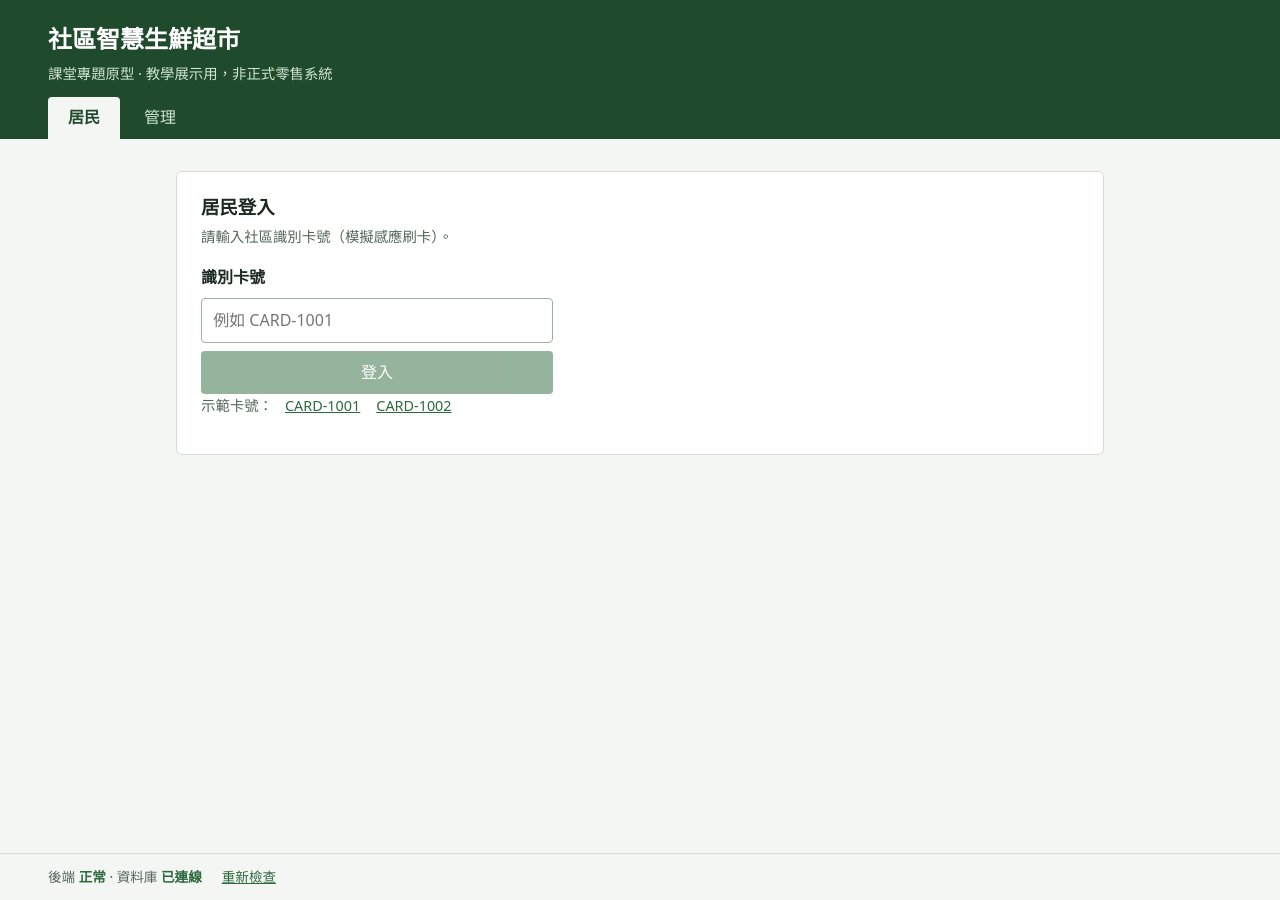
Test: shows the backend's message for an unknown card and marks the field invalid
Type "CARD-9999" into the field labelled "識別卡號". click: (377, 321)
box: x1=201 y1=298 x2=553 y2=343
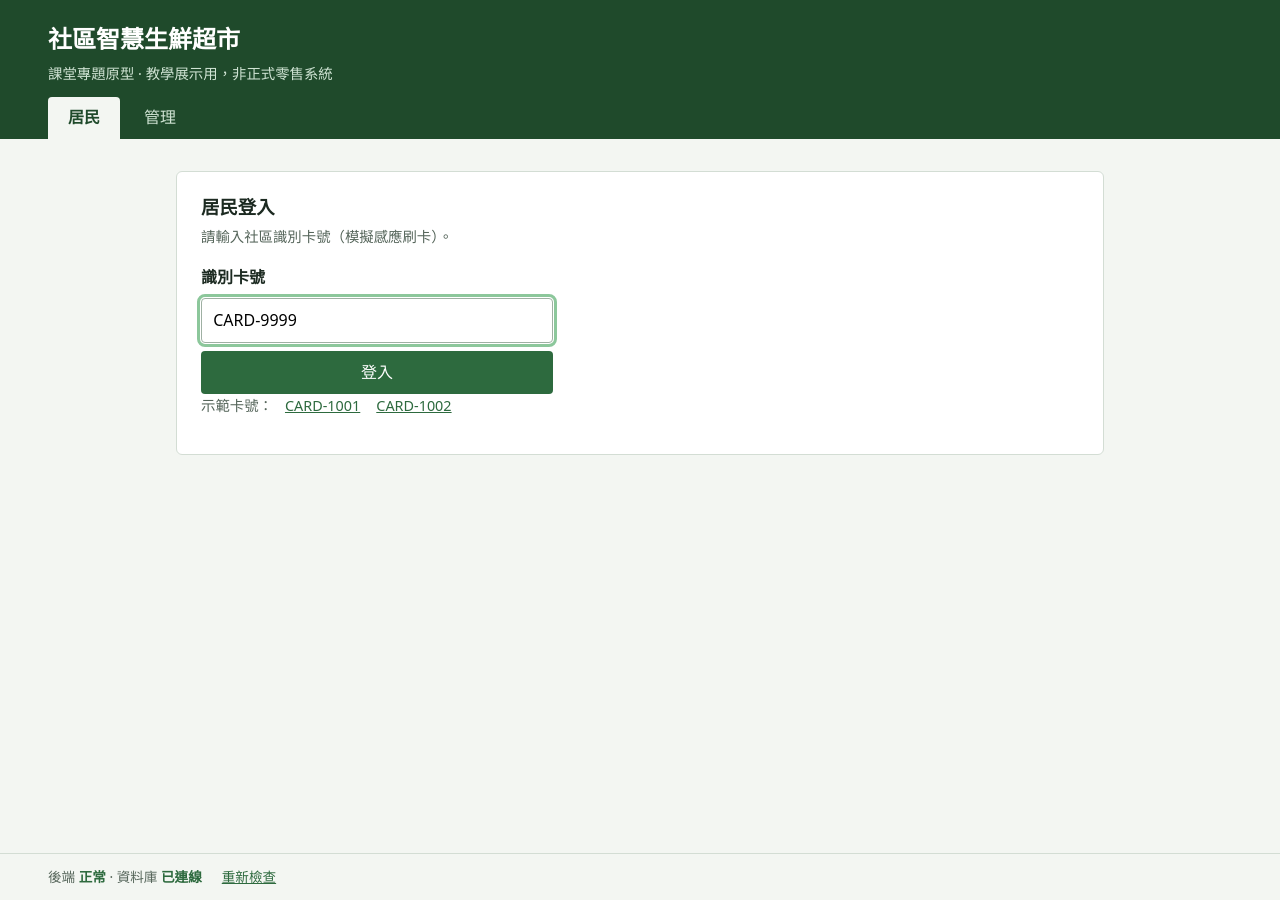
Click the button "登入". click: (377, 373)
box: x1=201 y1=351 x2=553 y2=394
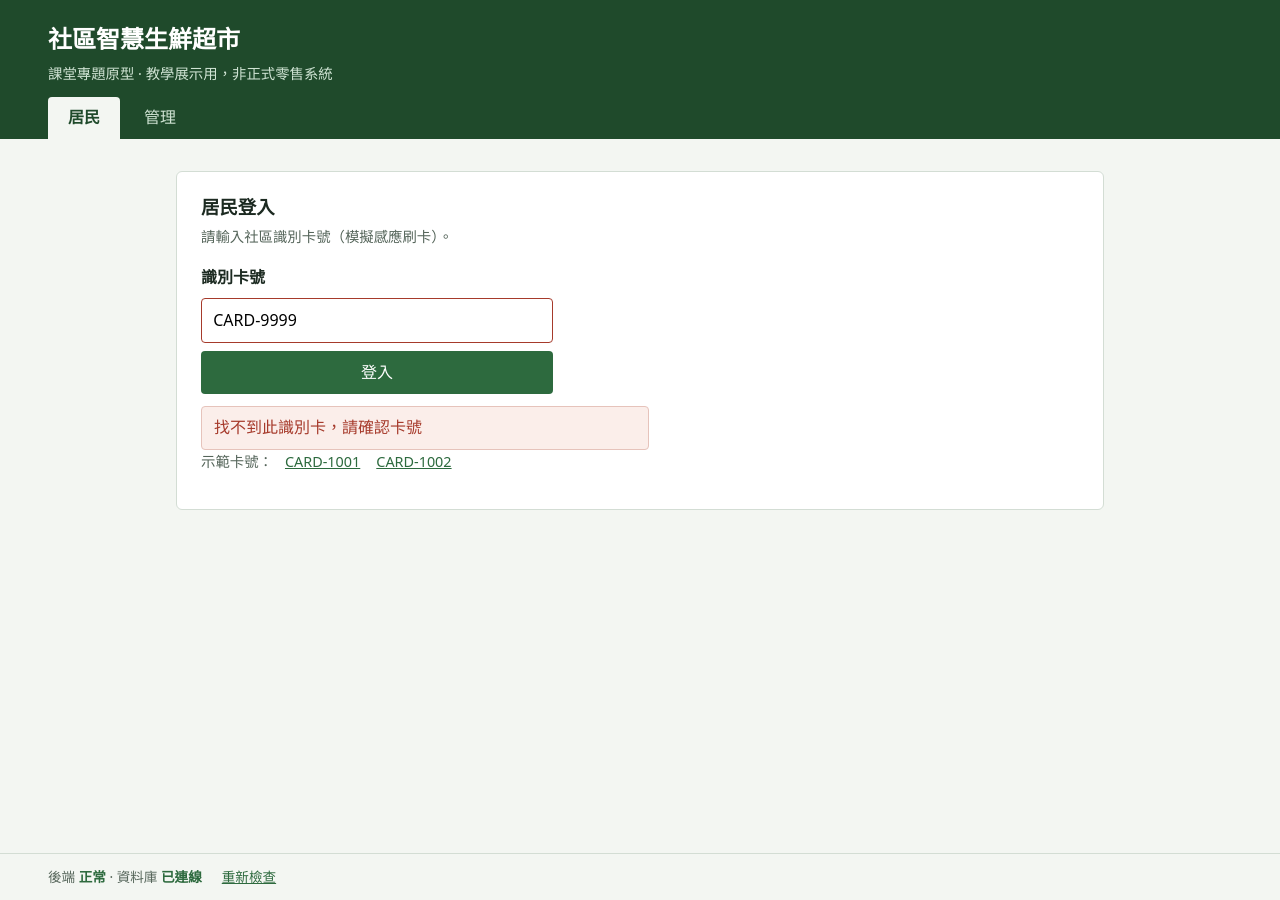
Expected: the message shows "找不到此識別卡", x1=214 y1=416 x2=422 y2=438
